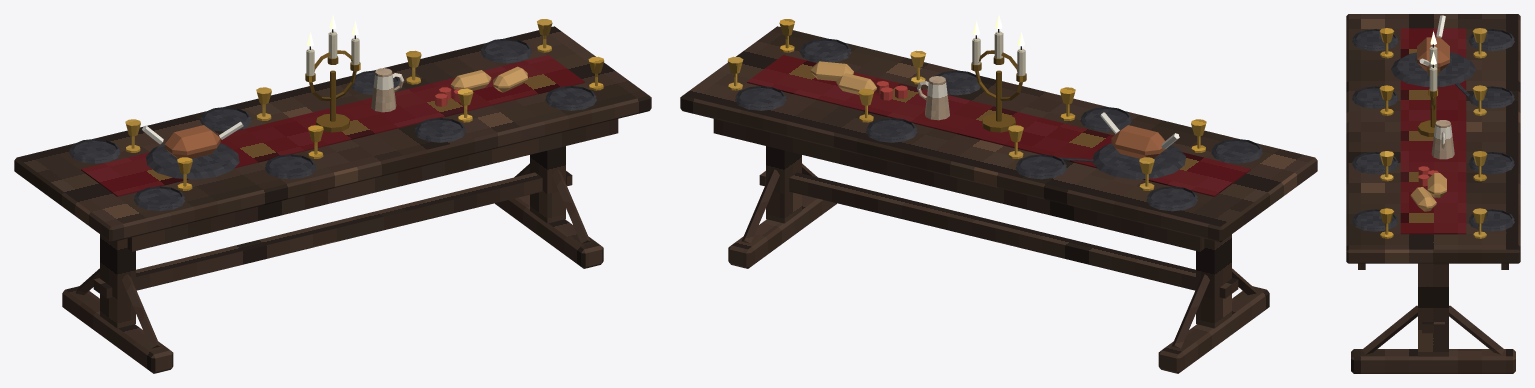
The model's file is feast_table.glb.
3 views of the same model, side by side, from view 1: azimuth 30°, elevation 25°; view 2: azimuth 150°, elevation 25°; view 3: azimuth 270°, elevation 25° (orthographic). The views are drawn at different scales.
Parts seen in each view (by area): view 1: body; view 2: body; view 3: body.
Part boxes in pixels (x1=…): body: x1=14, y1=19, x2=651, y2=373; body: x1=680, y1=19, x2=1317, y2=373; body: x1=1346, y1=14, x2=1520, y2=373.
Bounding box in the file's own units: 2.9 × 1.39 × 0.9.
Materials: 14 (7 with a texture image).
